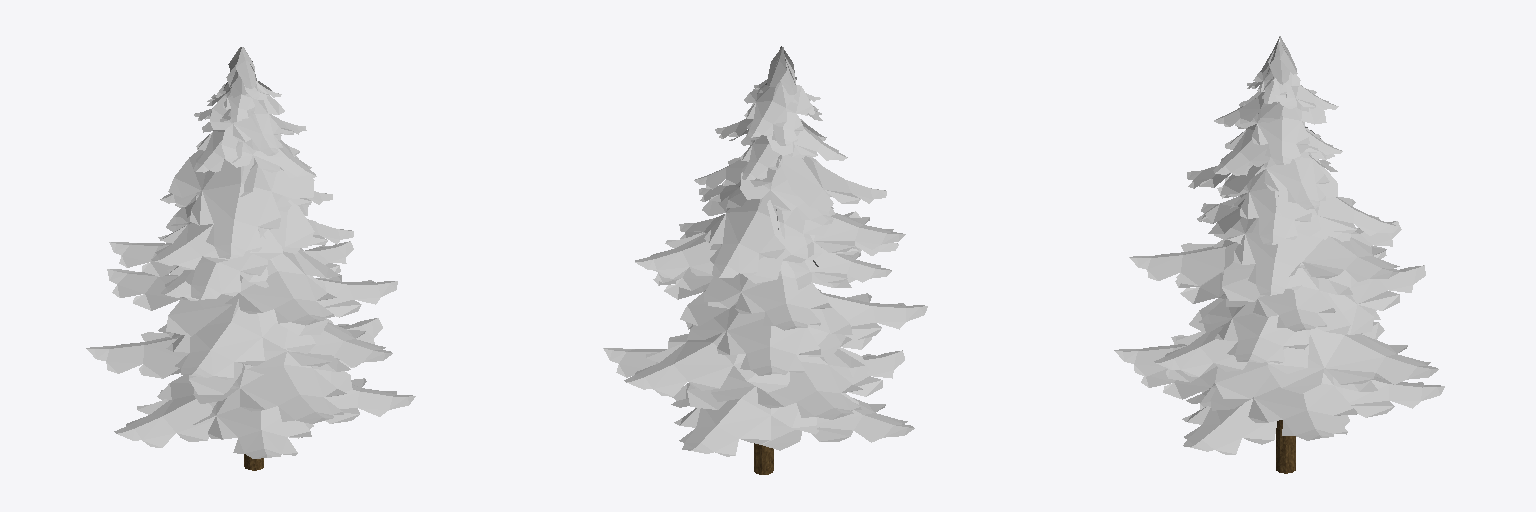
3 views of the same model, side by side, from view 1: azimuth 30°, elevation 25°; view 2: azimuth 150°, elevation 25°; view 3: azimuth 270°, elevation 25° (orthographic).
Parts seen in each view (by area): view 1: Leaves/001_Leavs_0; view 2: Leaves/001_Leavs_0, Trank.001_Trank_0; view 3: Leaves/001_Leavs_0, Trank.001_Trank_0.
Boxes of the visible parts, x1,y1,x2,y2 form: Leaves/001_Leavs_0: [86, 47, 415, 458]; Leaves/001_Leavs_0: [603, 46, 927, 456]; Trank.001_Trank_0: [754, 443, 773, 474]; Leaves/001_Leavs_0: [1114, 36, 1444, 454]; Trank.001_Trank_0: [1276, 420, 1295, 473].
Bounding box in the file's own units: 217 × 308 × 217.
Materials: 2 (1 with a texture image).